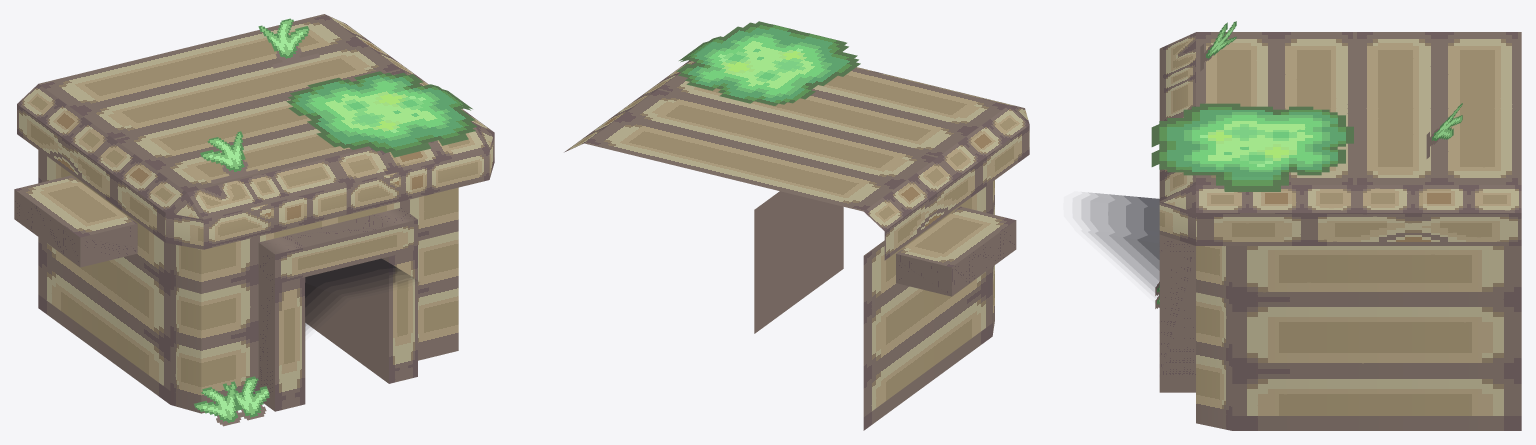
3 renders of one model, left to right at view 1: azimuth 30°, elevation 25°; view 2: azimuth 150°, elevation 25°; view 3: azimuth 270°, elevation 25°, orthographic. The views are drawn at different scales.
Bounding box in the file's own units: 6.5 × 4.25 × 6.4.
4 materials, 4 textured.
